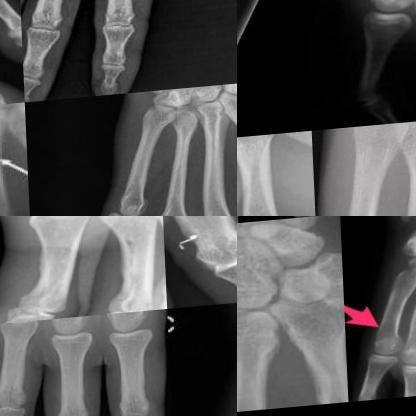fracture: (189, 231, 236, 294), (113, 230, 151, 293), (294, 361, 343, 408), (278, 135, 309, 168), (373, 341, 401, 355)
